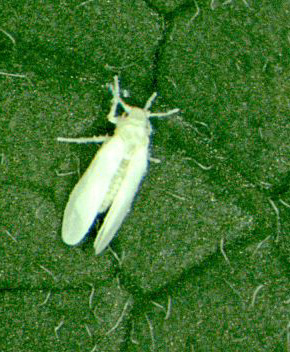whitefly: (60, 76, 180, 256)
